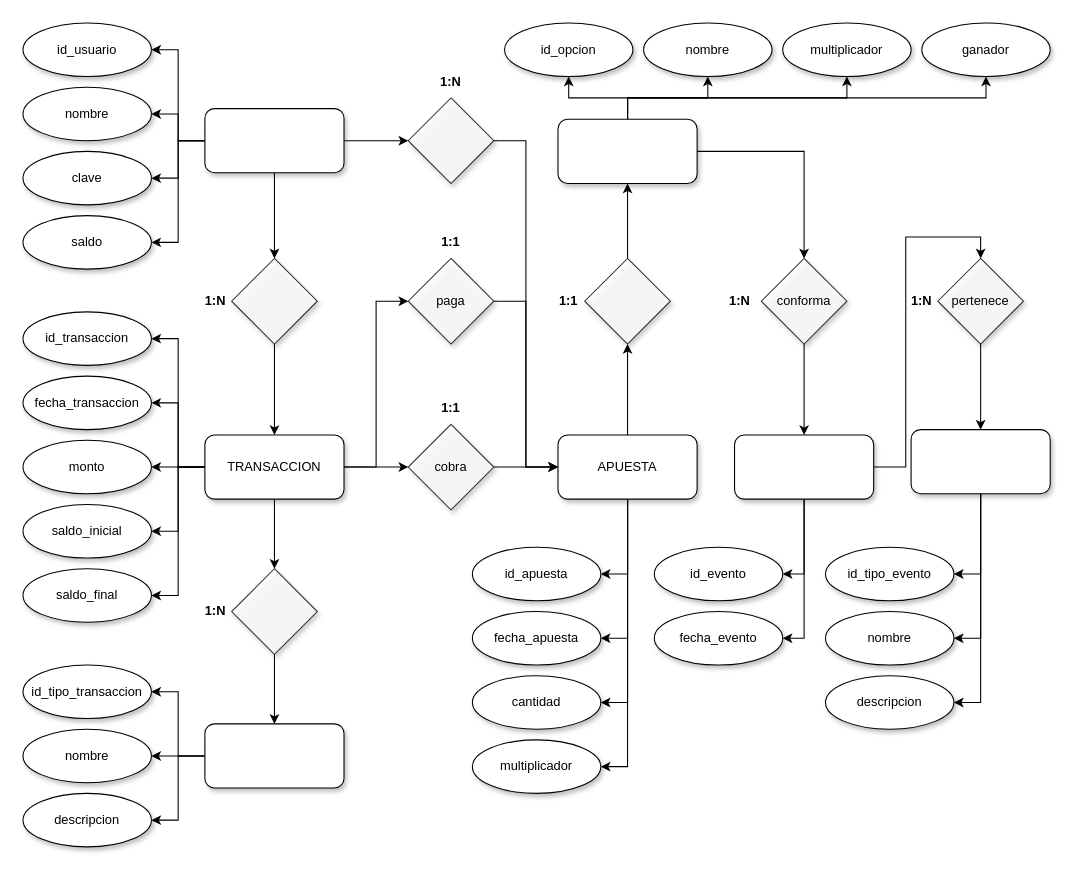
Some shapes in this 1075 by 873 pixel diagram are drawn without their labels. Here are the shapes that lost their labels. From the top down, the centre of each, then its label:
the point at 275,141: USUARIO
the point at 451,142: hace
the point at 628,152: OPCION
the point at 275,302: realiza
the point at 628,302: elije
the point at 804,468: EVENTO
the point at 981,462: TIPO_EVENTO
the point at 275,612: ejecuta
the point at 275,757: TIPO_TRANSACCION
